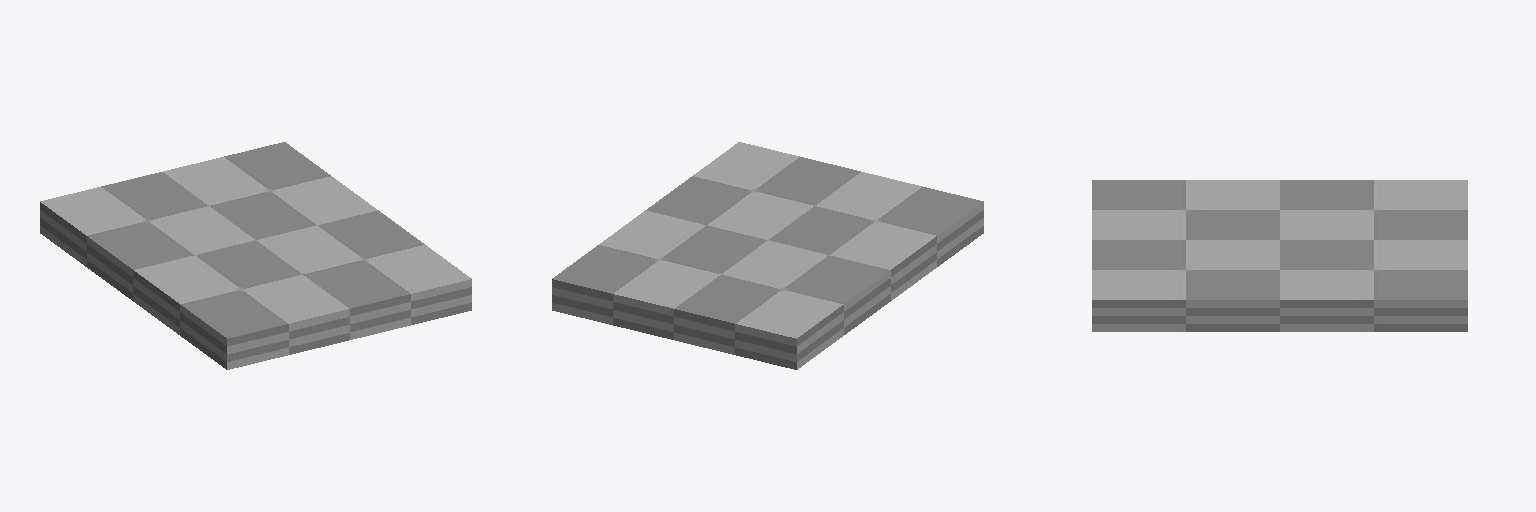
3 views of the same model, side by side, from view 1: azimuth 30°, elevation 25°; view 2: azimuth 150°, elevation 25°; view 3: azimuth 270°, elevation 25° (orthographic).
Visible parts, largest first — view 1: Cube_Cube.001; view 2: Cube_Cube.001; view 3: Cube_Cube.001.
Boxes of the visible parts, x1=… form: Cube_Cube.001: x1=40, y1=142, x2=471, y2=369; Cube_Cube.001: x1=552, y1=142, x2=983, y2=369; Cube_Cube.001: x1=1092, y1=180, x2=1467, y2=331.
Size of the model in its own units: 16.28 by 2 by 21.58.
1 materials, 1 textured.